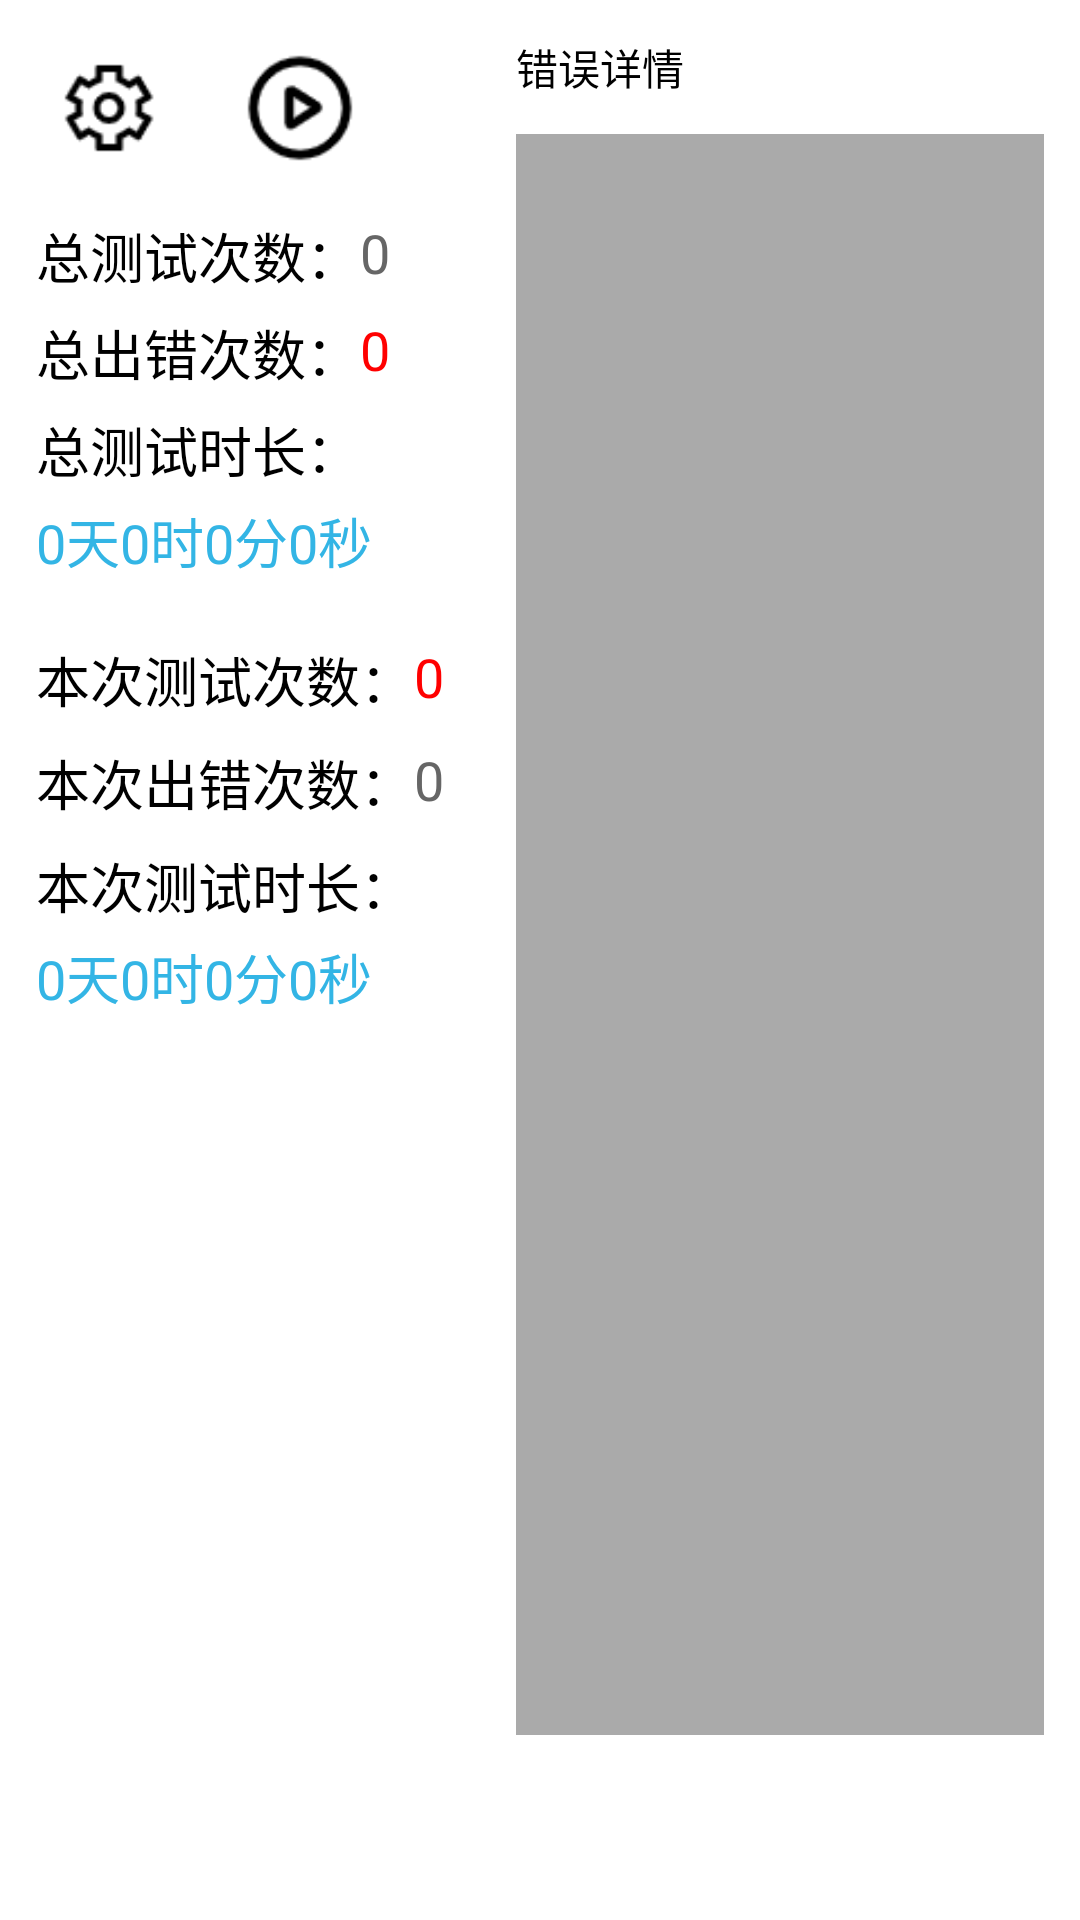

Where to tap for icons on this 1080×1920 app screen, as (x=x, y=y):
setting: (x=109, y=108)
